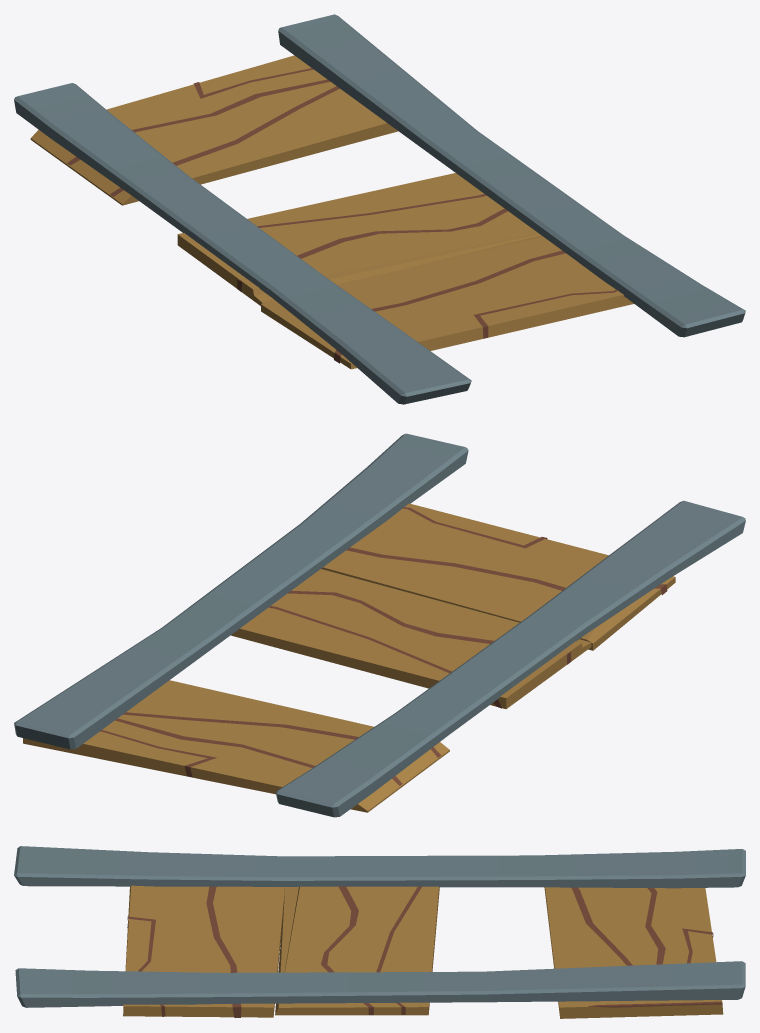
File: DE_Railway_01.fbx
The picture shows the model from 3 angles, top to bottom: view 1: azimuth 30°, elevation 25°; view 2: azimuth 150°, elevation 25°; view 3: azimuth 270°, elevation 25°; orthographic projection. The views are drawn at different scales.
Parts seen in each view (by area): view 1: DE_Railway_01; view 2: DE_Railway_01; view 3: DE_Railway_01.
Part boxes in pixels (left/top/right/bottom): DE_Railway_01: left=14, top=14, right=745, bottom=404; DE_Railway_01: left=14, top=433, right=745, bottom=817; DE_Railway_01: left=14, top=846, right=745, bottom=1018.
Bounding box in the file's own units: 198 × 18.53 × 402.
